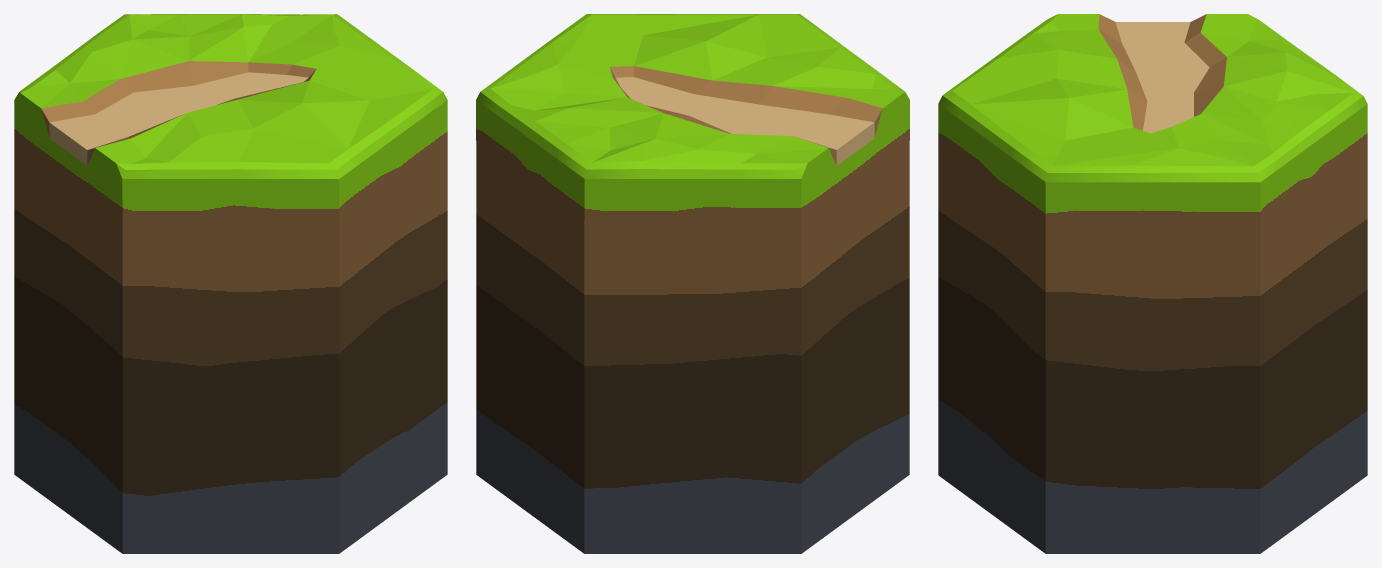
The model's file is HexTilePath_SingleConnection_1.glb.
3 renders of one model, left to right at view 1: azimuth 30°, elevation 25°; view 2: azimuth 150°, elevation 25°; view 3: azimuth 270°, elevation 25°, orthographic.
Parts seen in each view (by area): view 1: HexTilePath_SingleConnection_1; view 2: HexTilePath_SingleConnection_1; view 3: HexTilePath_SingleConnection_1.
Part boxes in pixels (bbox=[...]): HexTilePath_SingleConnection_1: bbox=[14, 14, 447, 553]; HexTilePath_SingleConnection_1: bbox=[476, 14, 909, 553]; HexTilePath_SingleConnection_1: bbox=[938, 14, 1367, 553].
Size of the model in its own units: 1.73 by 2.01 by 2.
Materials: 1 (1 with a texture image).
